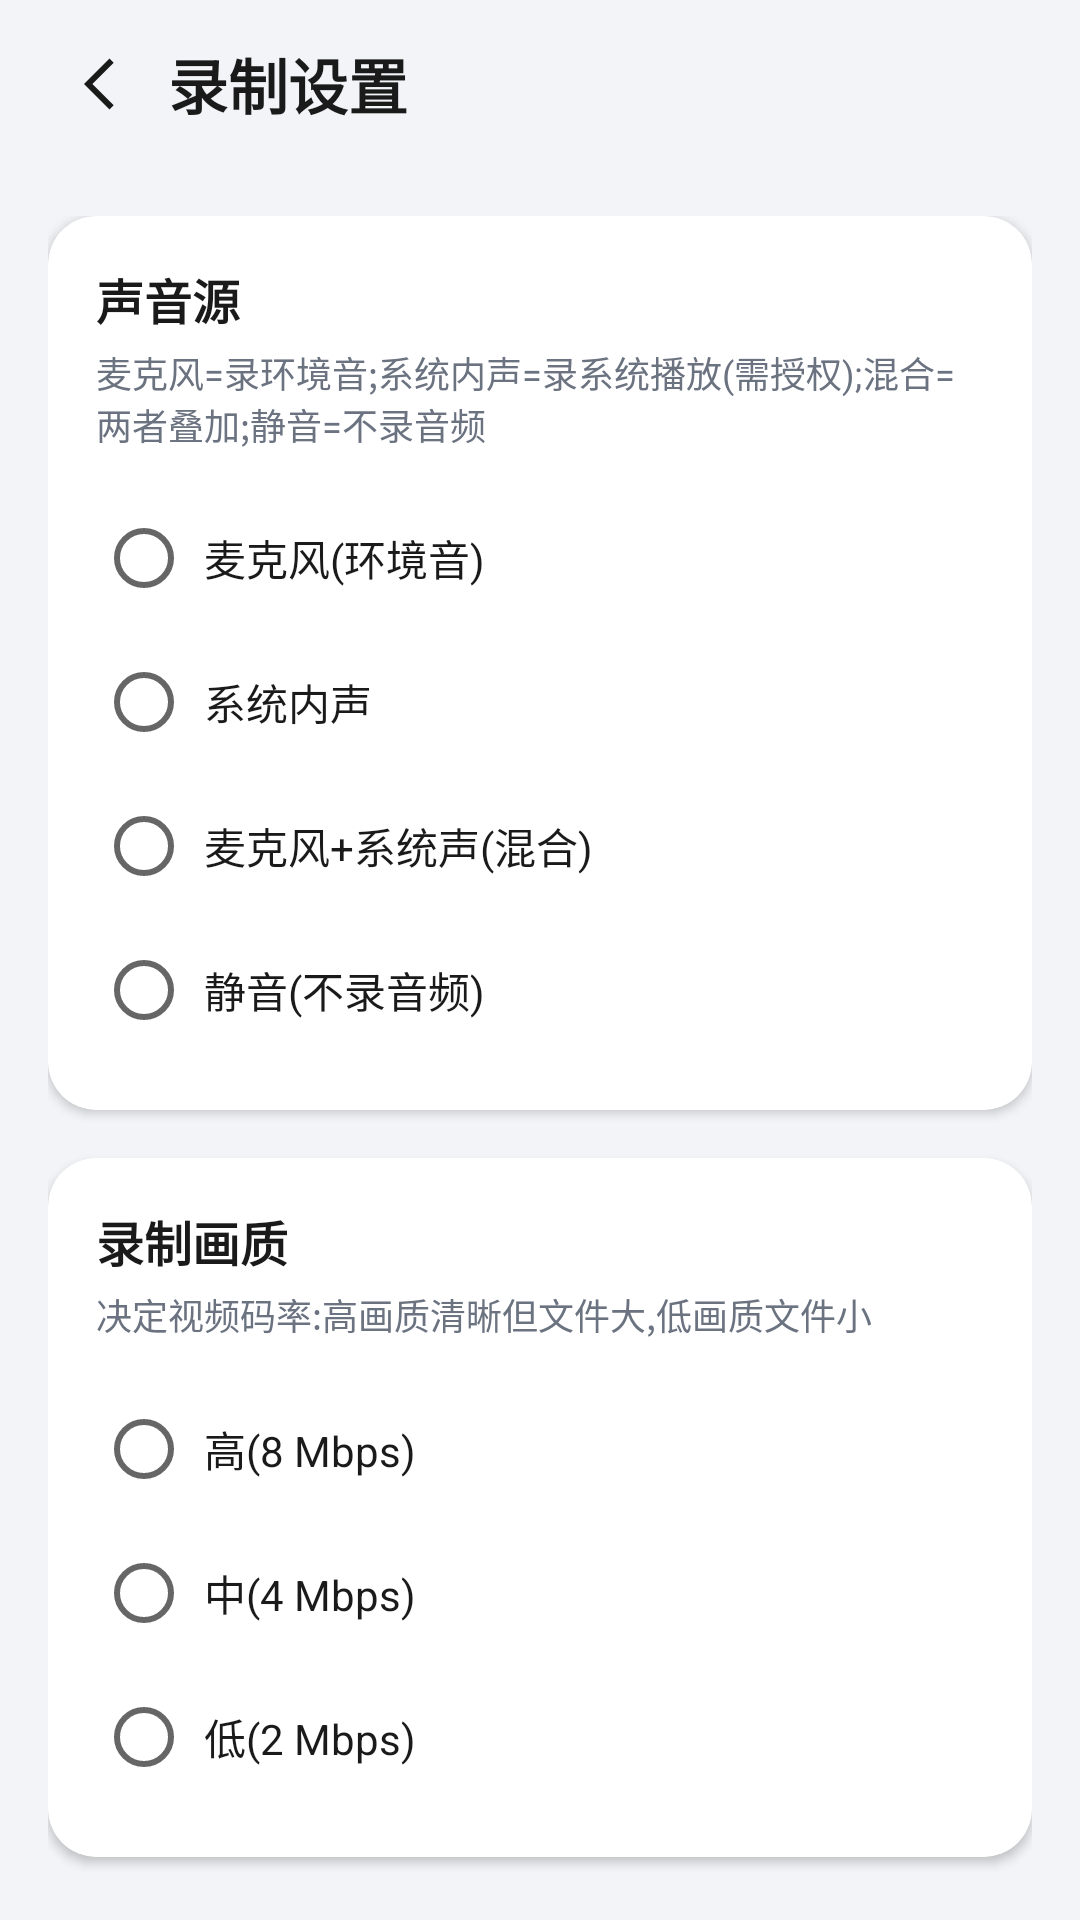

Named icons in this screenshot (1080w x 1920h) and their centers, (x,y):
返回: (99,84)
